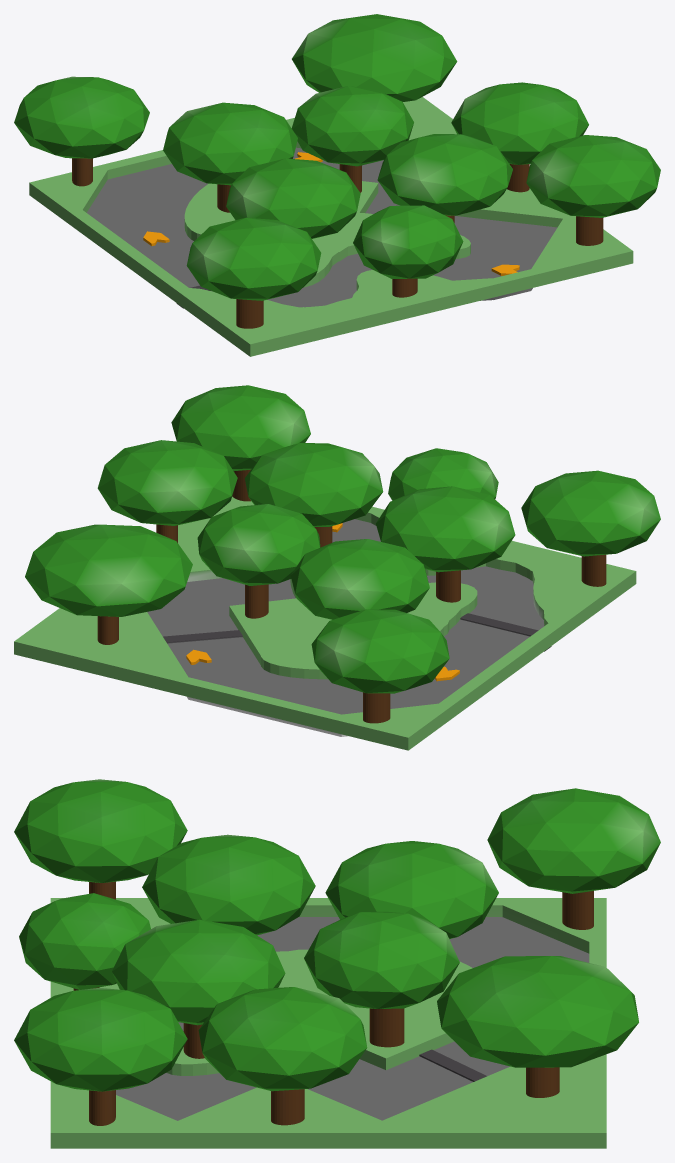
File: RaceTrack.glb
The picture shows the model from 3 angles, top to bottom: view 1: azimuth 30°, elevation 25°; view 2: azimuth 150°, elevation 25°; view 3: azimuth 270°, elevation 25°; orthographic projection. The views are drawn at different scales.
Visible parts, largest first — view 1: Walls, Track, Icosphere.008, Icosphere.004, Icosphere.006, Icosphere.009, Icosphere.001, Icosphere, Icosphere.002, Icosphere.007, Icosphere.003, Icosphere.005 (+4 smaller); view 2: Walls, Track, Icosphere.008, Icosphere.007, Icosphere.004, Icosphere.009, Icosphere.002, Icosphere, Icosphere.001, Icosphere.006, Icosphere.003, Icosphere.005 (+7 smaller); view 3: Walls, Icosphere.008, Track, Icosphere.009, Icosphere.006, Icosphere.007, Icosphere.004, Icosphere.002, Icosphere.001, Icosphere.003, Icosphere, Icosphere.005 (+7 smaller).
Boxes of the visible parts, x1,y1,x2,y2 form: Walls: [29, 97, 633, 356]; Track: [87, 147, 557, 307]; Icosphere.008: [292, 14, 457, 101]; Icosphere.004: [186, 217, 321, 300]; Icosphere.006: [526, 135, 660, 217]; Icosphere.009: [14, 76, 149, 158]; Icosphere.001: [377, 134, 512, 215]; Icosphere: [163, 102, 297, 185]; Icosphere.002: [226, 158, 360, 238]; Icosphere.007: [451, 82, 588, 164]; Icosphere.003: [291, 86, 413, 166]; Icosphere.005: [353, 205, 463, 278]; Walls: [14, 496, 636, 750]; Track: [147, 519, 544, 736]; Icosphere.008: [25, 524, 192, 616]; Icosphere.007: [97, 440, 237, 525]; Icosphere.004: [521, 470, 660, 556]; Icosphere.009: [311, 609, 449, 693]; Icosphere.002: [376, 486, 515, 572]; Icosphere: [290, 539, 429, 619]; Icosphere.001: [244, 443, 383, 526]; Icosphere.006: [171, 385, 310, 471]; Icosphere.003: [197, 504, 320, 585]; Icosphere.005: [388, 448, 498, 500]; Walls: [50, 898, 606, 1148]; Icosphere.008: [437, 956, 638, 1067]; Track: [116, 917, 589, 1120]; Icosphere.009: [487, 788, 660, 893]; Icosphere.006: [14, 987, 187, 1091]; Icosphere.007: [198, 987, 367, 1091]; Icosphere.004: [14, 779, 187, 882]; Icosphere.002: [142, 834, 315, 935]; Icosphere.001: [112, 919, 285, 1025]; Icosphere.003: [304, 911, 459, 1008]; Icosphere: [325, 841, 498, 938]; Icosphere.005: [19, 893, 150, 989].
Size of the model in its own units: 76.13 by 18.82 by 74.46.
